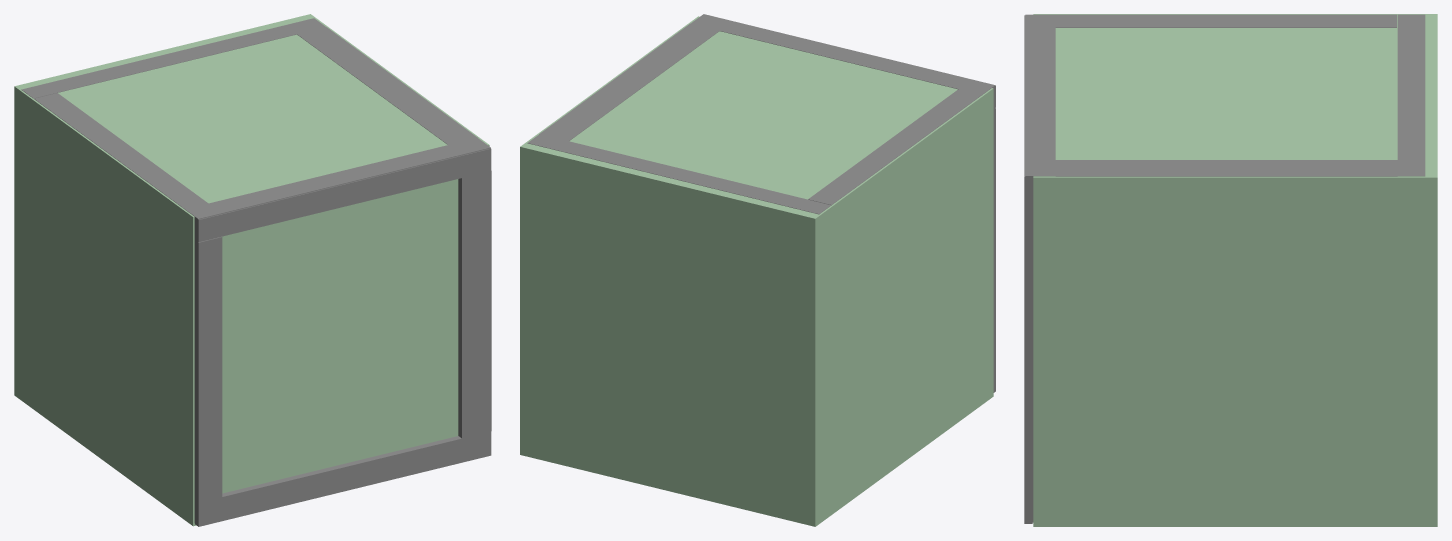
File: trop_Crate02.glb
The picture shows the model from 3 angles, left to right: view 1: azimuth 30°, elevation 25°; view 2: azimuth 150°, elevation 25°; view 3: azimuth 270°, elevation 25°; orthographic projection. The views are drawn at different scales.
Visible parts, largest first — view 1: geometry_0; view 2: geometry_0; view 3: geometry_0.
Part boxes in pixels (x1,y1,x2,y2): geometry_0: (14,14,491,526); geometry_0: (520,14,995,526); geometry_0: (1024,14,1437,526).
Size of the model in its own units: 28.09 by 28.03 by 30.
